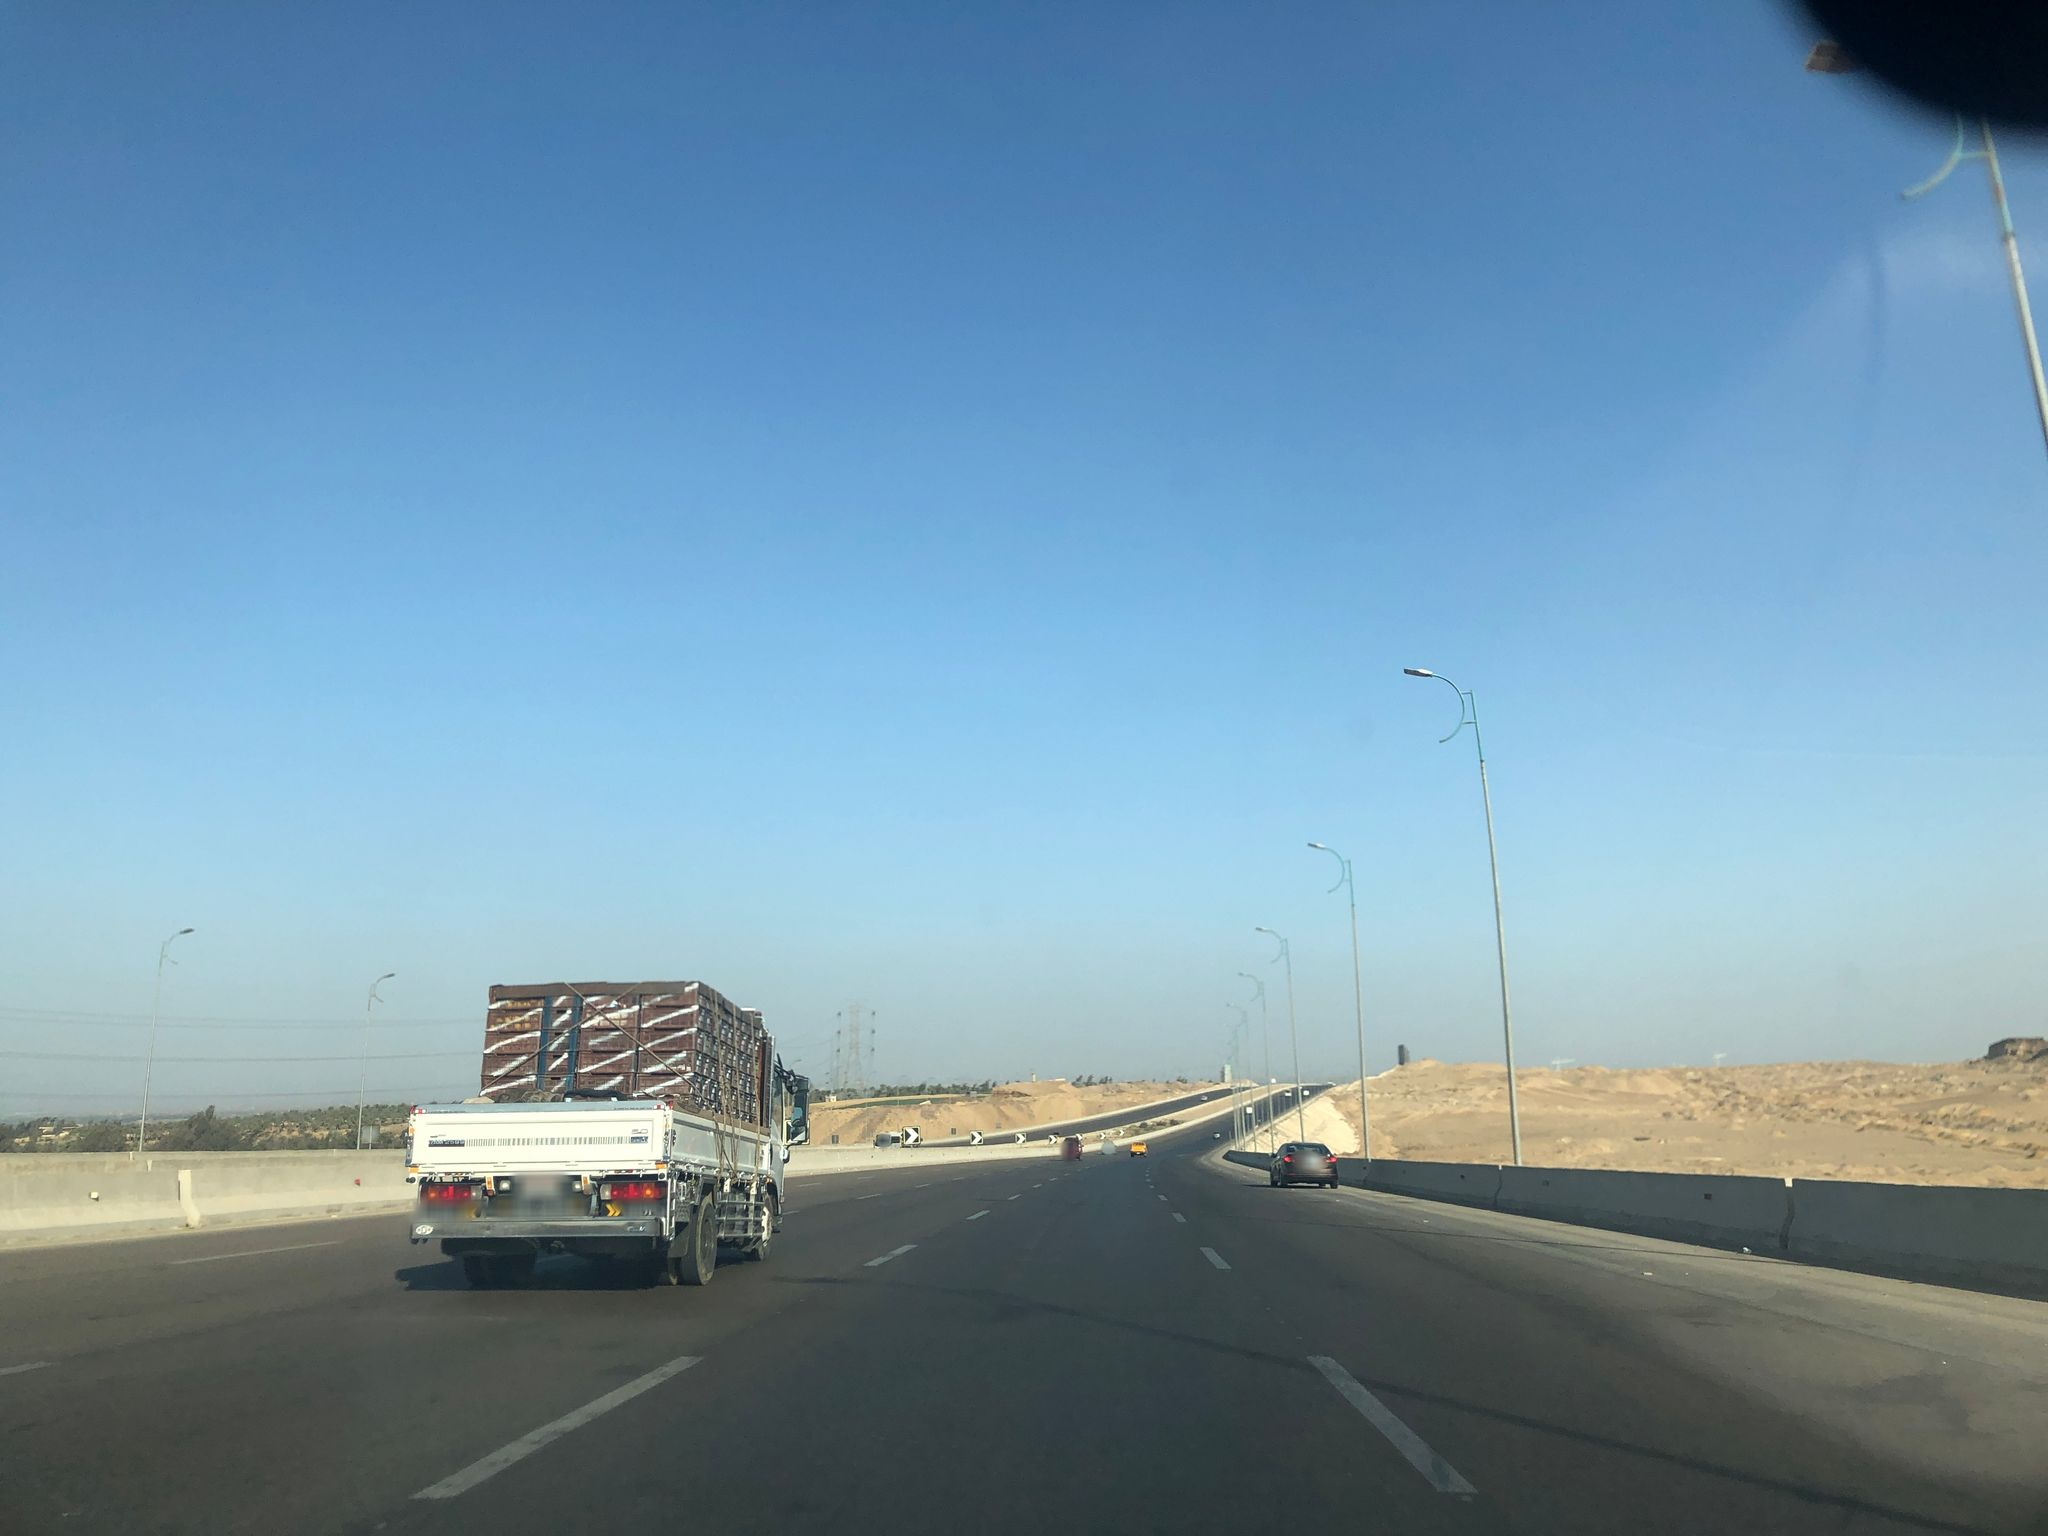car: (1268, 1141, 1338, 1187), (1127, 1141, 1148, 1157)
truck: (405, 978, 811, 1286)
